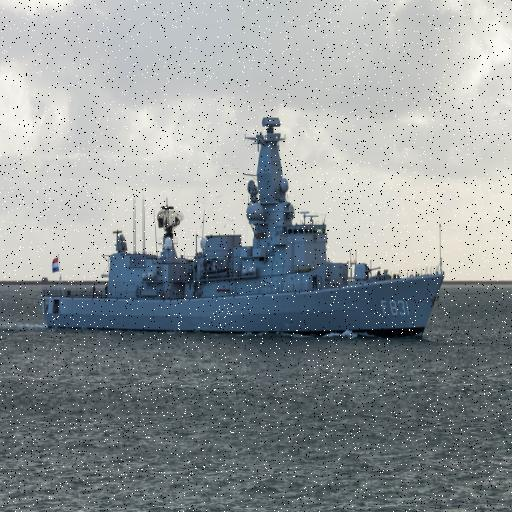Fragata: (42, 113, 450, 341)
